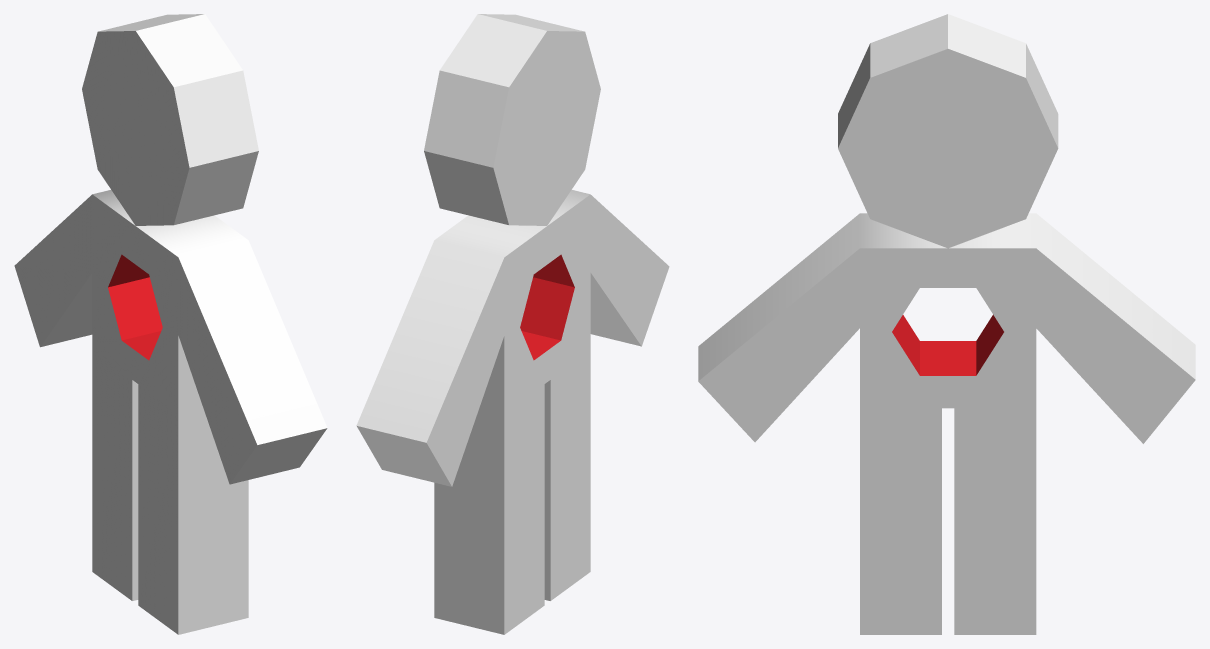
The model's file is man_l.fbx.
3 renders of one model, left to right at view 1: azimuth 30°, elevation 25°; view 2: azimuth 150°, elevation 25°; view 3: azimuth 270°, elevation 25°, orthographic. The views are drawn at different scales.
Parts seen in each view (by area): view 1: pCylinder14; view 2: pCylinder14; view 3: pCylinder14.
Part boxes in pixels (x1,y1,x2,y2): pCylinder14: (14,14,327,634); pCylinder14: (356,14,669,634); pCylinder14: (698,14,1195,634).
Size of the model in its own units: 0.8513 by 6.64 by 5.11.
1 material, 1 textured.
